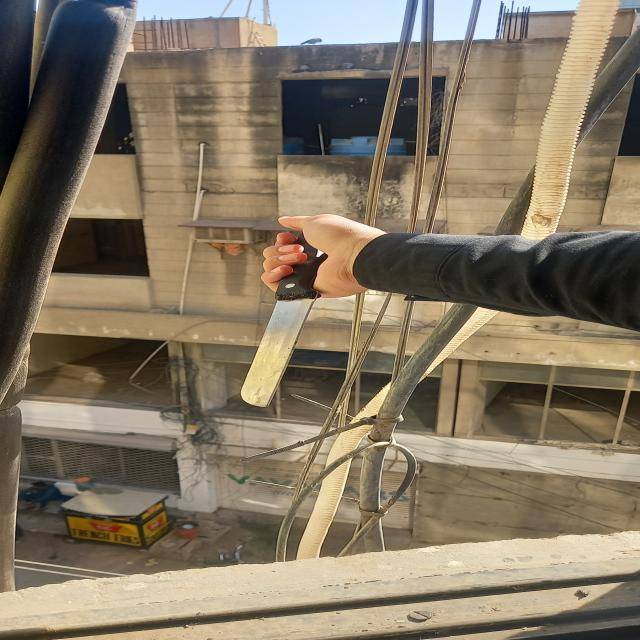Knife: (222, 228, 344, 412)
